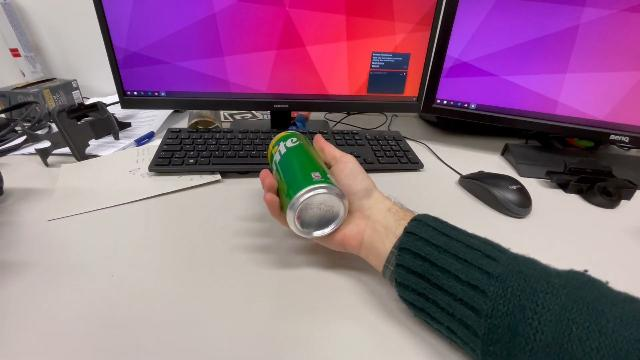Sprite: (266, 129, 350, 241)
